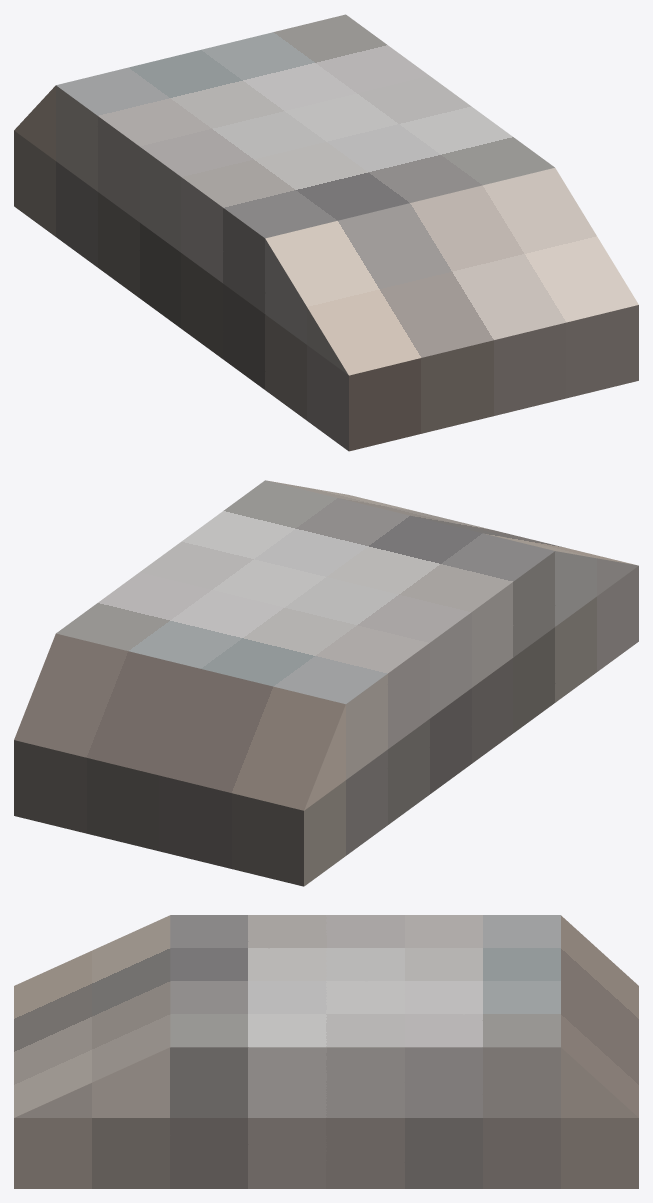
File: computer_mouse.fbx
3 views of the same model, one above another, from view 1: azimuth 30°, elevation 25°; view 2: azimuth 150°, elevation 25°; view 3: azimuth 270°, elevation 25° (orthographic). The views are drawn at different scales.
Parts seen in each view (by area): view 1: computer_mouse; view 2: computer_mouse; view 3: computer_mouse.
Part boxes in pixels (x1,y1,x2,y2): computer_mouse: (14,14,638,451); computer_mouse: (14,480,638,886); computer_mouse: (14,915,638,1188).
Size of the model in its own units: 20 by 10 by 40.
